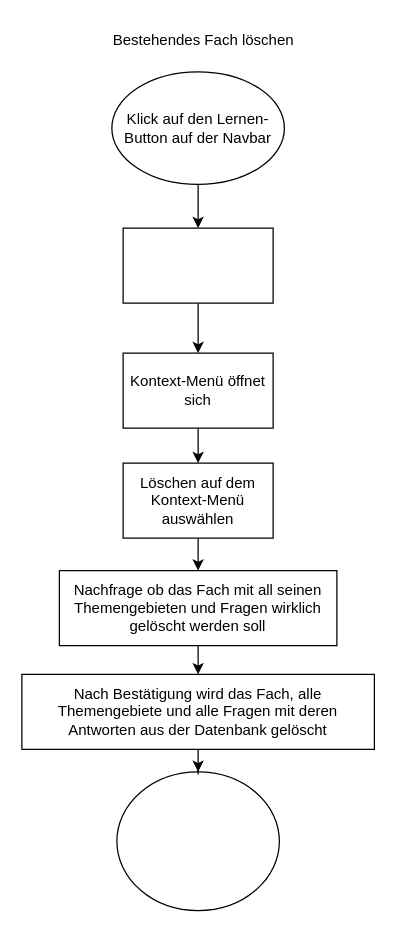
This 396x933 diagram has some shape labels left out. Here are the shapes that lost their labels. From the top down, the box of each, then its label:
(122, 227, 273, 303): Langen Klick auf das Fach das gelöscht werden soll
(116, 771, 279, 911): Veränderung zurück auf Anzeige
